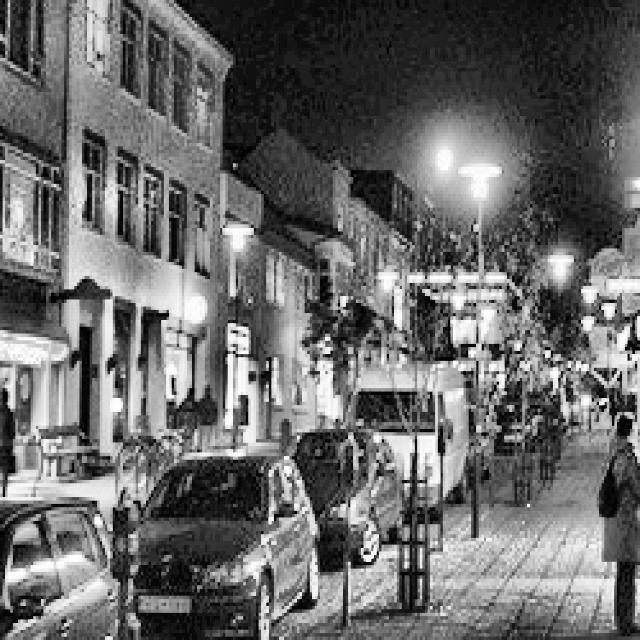light_vehicle: (138, 449, 328, 640), (351, 368, 476, 514), (297, 419, 410, 572)
